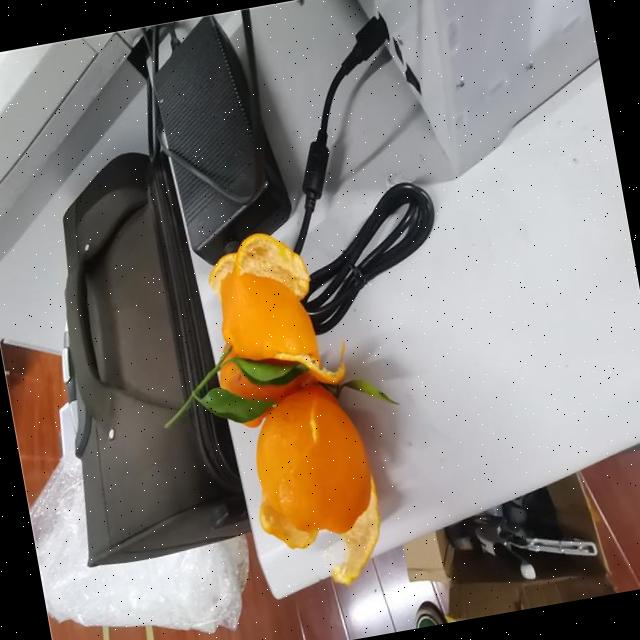orange-peel: (237, 376, 382, 553)
